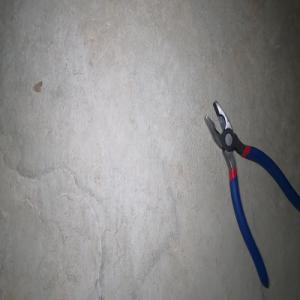Pliers: (204, 99, 300, 288)
